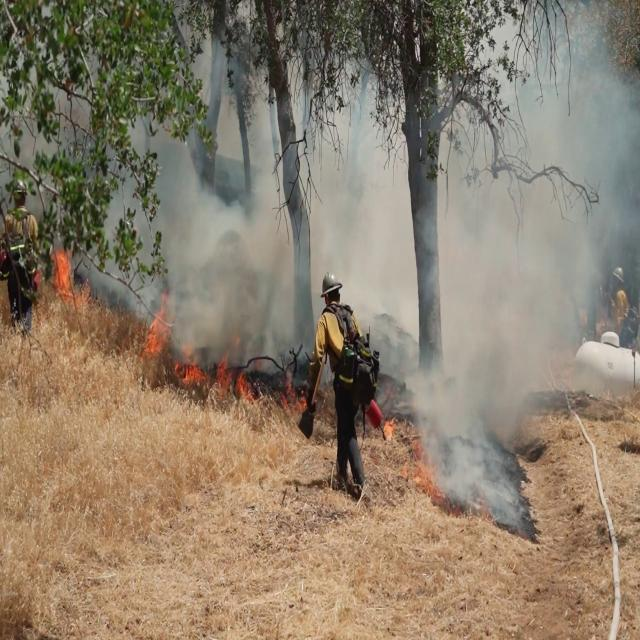Fire: (50, 244, 90, 308), (144, 288, 174, 360)
Smoke: (386, 11, 640, 518), (145, 32, 409, 382)
